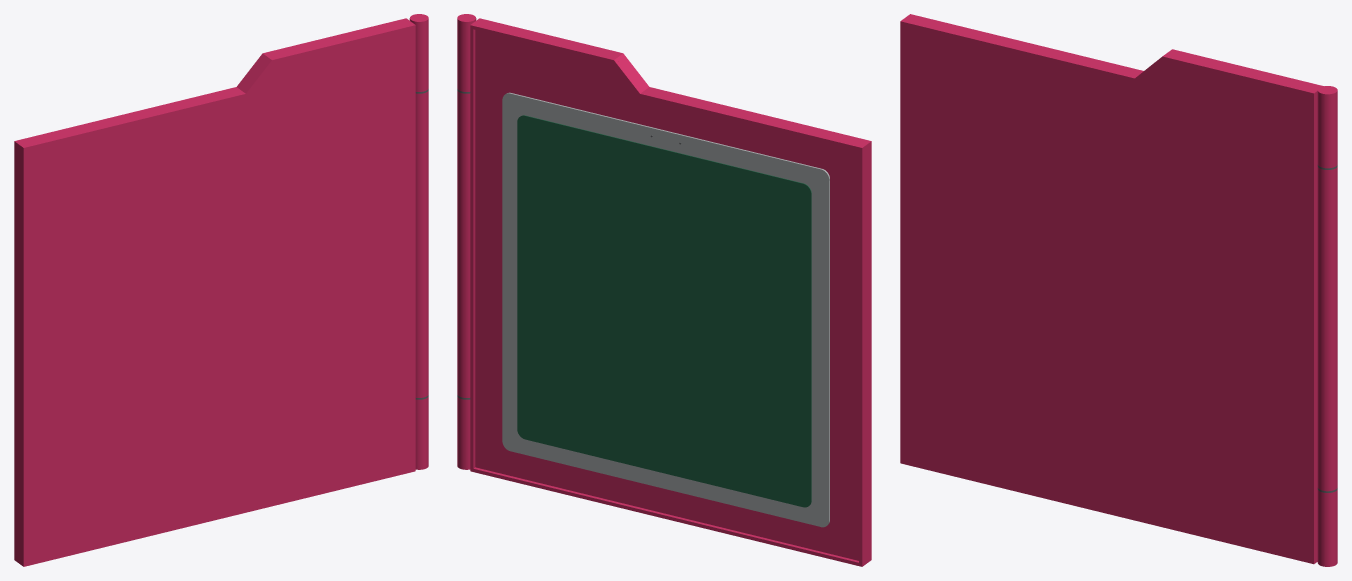
The model's file is RightPannel3DPokedex.glb.
3 renders of one model, left to right at view 1: azimuth 30°, elevation 25°; view 2: azimuth 150°, elevation 25°; view 3: azimuth 330°, elevation 25°, orthographic. The views are drawn at different scales.
Visible parts, largest first — view 1: Mesh_Mesh_head_geo.001_lambert2SG.001; view 2: Mesh_Mesh_head_geo.001_lambert2SG.001; view 3: Mesh_Mesh_head_geo.001_lambert2SG.001.
Part boxes in pixels (bbox=[...]): Mesh_Mesh_head_geo.001_lambert2SG.001: bbox=[14, 14, 428, 566]; Mesh_Mesh_head_geo.001_lambert2SG.001: bbox=[457, 14, 871, 566]; Mesh_Mesh_head_geo.001_lambert2SG.001: bbox=[900, 14, 1337, 566].
Bounding box in the file's own units: 0.25 × 0.262 × 0.01.
